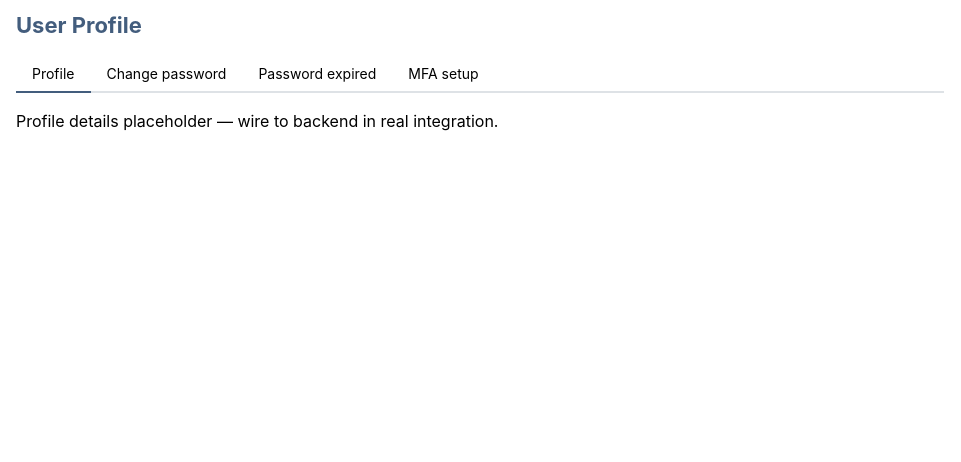
UserProfilesPage › Change password tab — submit empty shows errors
The image size is (961, 462).
Click the tab "Change password" at (166, 75), box top-left (90, 57), bottom-right (242, 93)
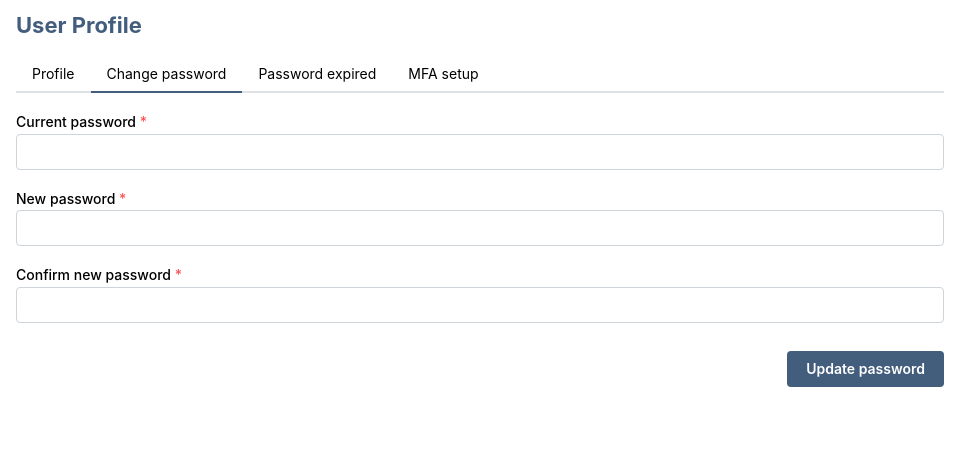
Submit the form named "change password form", box top-left (16, 109), bottom-right (944, 387)
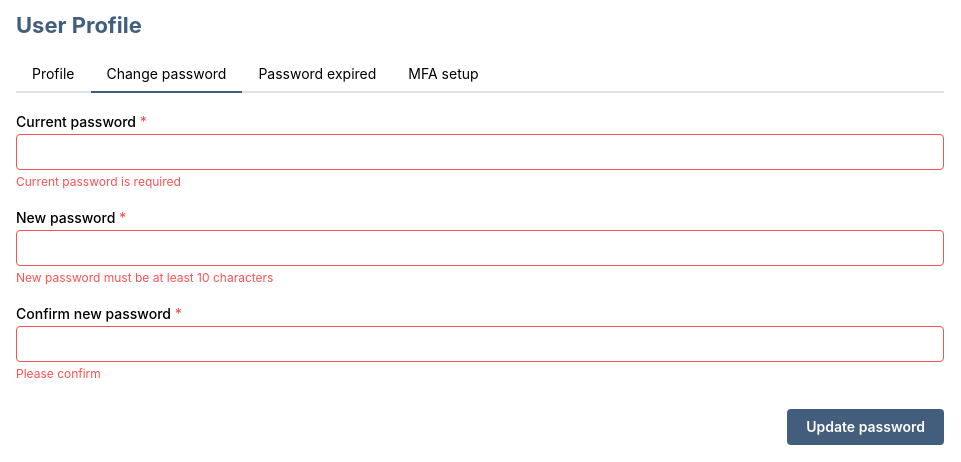
Check: the text "Current password is required" is shown, box top-left (16, 174), bottom-right (181, 189)
